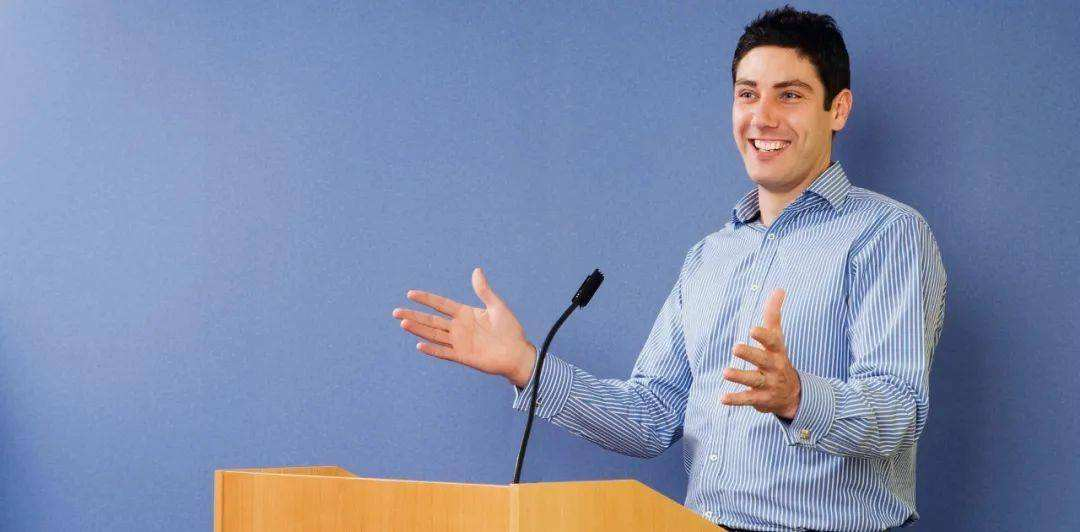no-phone: (389, 265, 532, 379), (714, 286, 796, 415)
